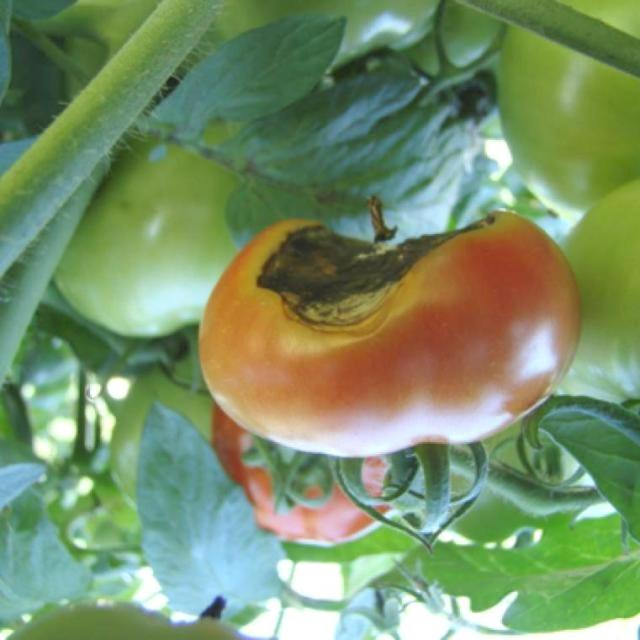Blossom End Rot Fruit: (165, 138, 349, 222)
